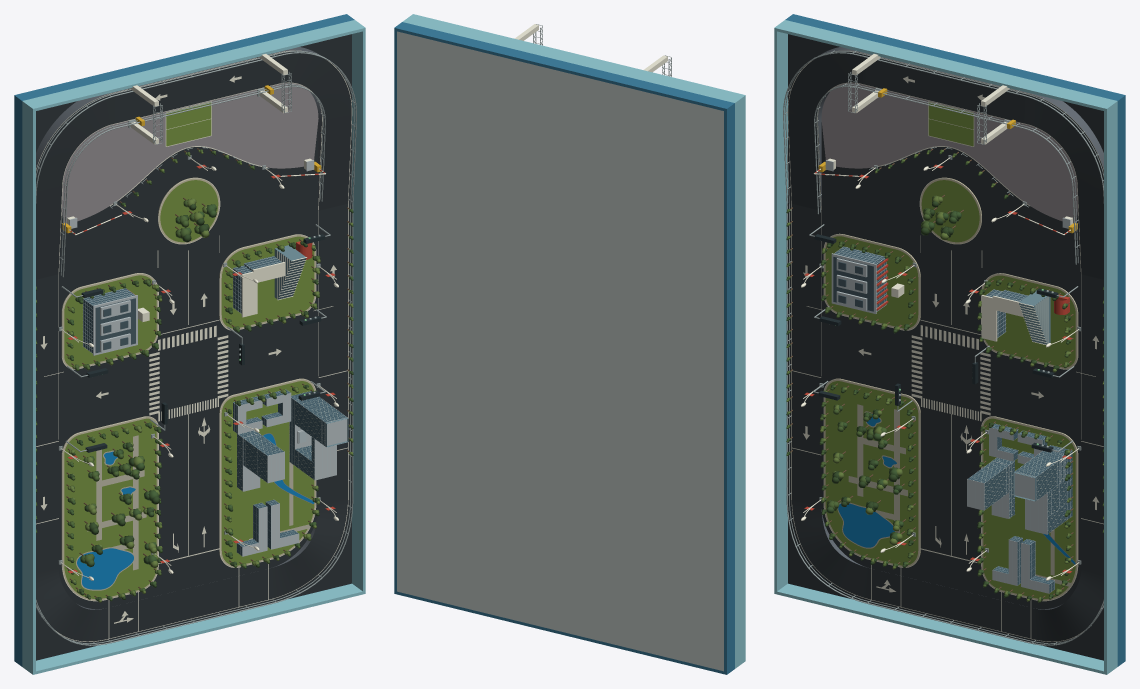
The model's file is dongfeng_sandbox.obj.
The picture shows the model from 3 angles, left to right: view 1: azimuth 30°, elevation 25°; view 2: azimuth 150°, elevation 25°; view 3: azimuth 330°, elevation 25°; orthographic projection.
Parts seen in each view (by area): view 1: ground_asphalt, elevated_road_asphalt, landscape_grass, boundary_acrylic, yard_grey_yard, boundary_blue_board, markings_white, buildings_glass, buildings_roof, rails_steel, landscape_kerb, vegetation_leaf0 (+15 smaller); view 2: base_base, boundary_blue_board, boundary_acrylic; view 3: ground_asphalt, elevated_road_asphalt, landscape_grass, boundary_acrylic, yard_grey_yard, boundary_blue_board, markings_white, buildings_glass, buildings_roof, rails_steel, landscape_kerb, vegetation_leaf0 (+16 smaller).
Boxes of the visible parts, box(x1,y1,x2,y2) form: ground_asphalt: box(36, 34, 351, 660); elevated_road_asphalt: box(36, 51, 351, 641); landscape_grass: box(64, 180, 314, 598); boundary_acrylic: box(22, 20, 365, 674); yard_grey_yard: box(61, 83, 318, 223); boundary_blue_board: box(14, 14, 354, 666); markings_white: box(36, 50, 352, 641); buildings_glass: box(83, 256, 346, 555); buildings_roof: box(93, 295, 347, 556); rails_steel: box(36, 50, 356, 645); landscape_kerb: box(61, 177, 315, 600); vegetation_leaf0: box(36, 151, 353, 600); base_base: box(397, 31, 723, 671); boundary_blue_board: box(394, 22, 734, 674); boundary_acrylic: box(402, 14, 745, 668); ground_asphalt: box(788, 34, 1103, 660); elevated_road_asphalt: box(788, 52, 1103, 641); landscape_grass: box(825, 180, 1075, 598); boundary_acrylic: box(774, 20, 1117, 674); yard_grey_yard: box(821, 83, 1078, 223); boundary_blue_board: box(785, 14, 1125, 666); markings_white: box(787, 50, 1103, 641); buildings_glass: box(834, 246, 1072, 592); buildings_roof: box(831, 253, 1067, 593); rails_steel: box(783, 50, 1103, 645); landscape_kerb: box(824, 177, 1078, 600); vegetation_leaf0: box(786, 150, 1103, 600).
Size of the model in its own units: 3.36 by 5.46 by 0.8068.
